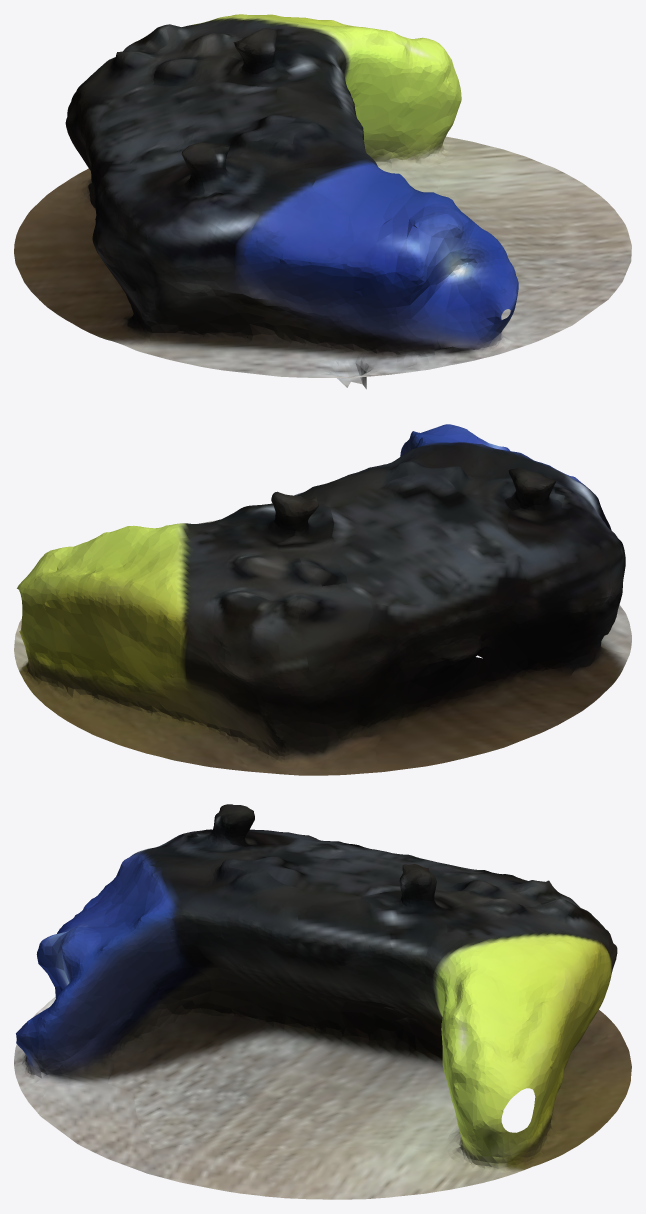
3 views of the same model, one above another, from view 1: azimuth 30°, elevation 25°; view 2: azimuth 150°, elevation 25°; view 3: azimuth 270°, elevation 25° (orthographic).
Parts seen in each view (by area): view 1: mesh; view 2: mesh; view 3: mesh.
Part boxes in pixels (x1,y1,x2,y2): mesh: (14, 14, 631, 389); mesh: (14, 424, 631, 775); mesh: (14, 804, 631, 1199).
Size of the model in its own units: 0.1616 by 0.0585 by 0.1612.
Materials: 1 (1 with a texture image).
